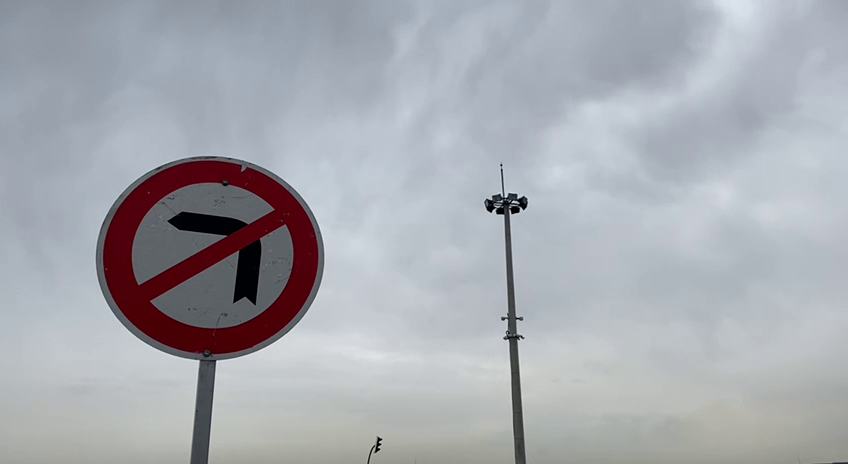noTurnLeft: (89, 144, 330, 367)
